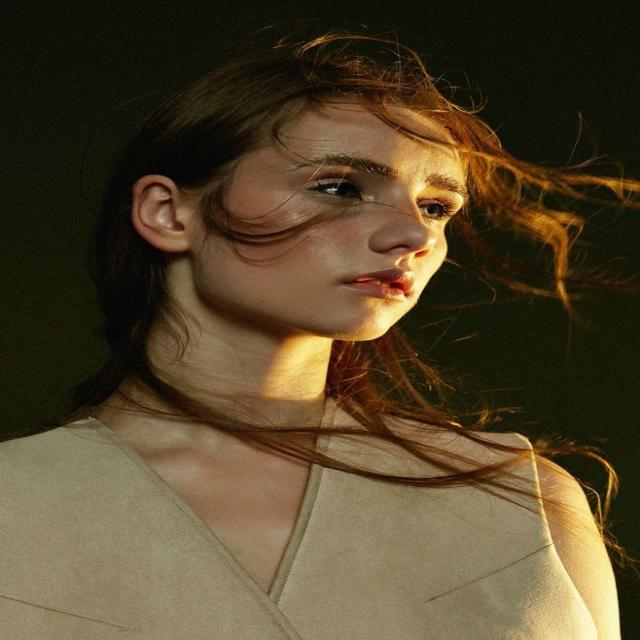earlobe: (158, 226, 192, 254)
eye: (308, 179, 367, 202), (414, 199, 447, 220)
nose: (376, 244, 442, 268)
wholeear: (131, 175, 192, 253)
